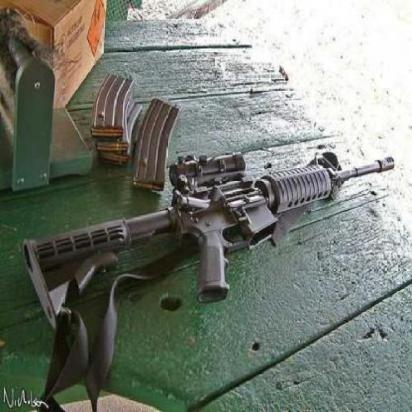Gun: (24, 150, 394, 310)
